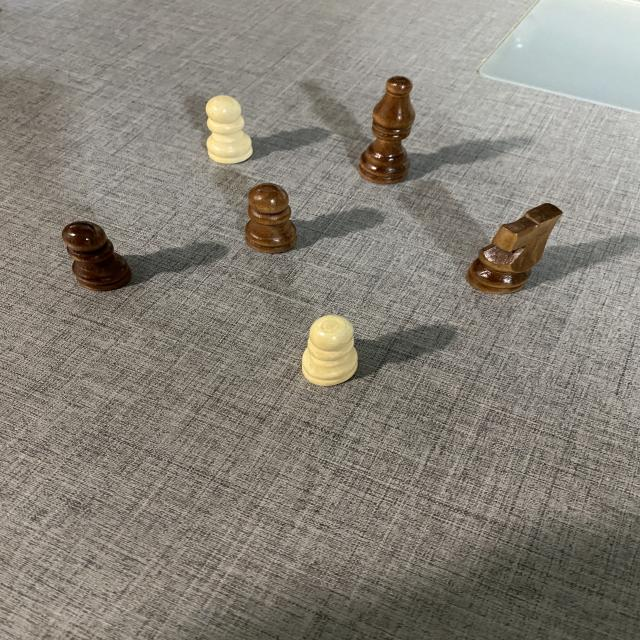Black-Bishop: (358, 75, 416, 185)
Black-Knight: (465, 202, 567, 295)
Black-Pawn: (61, 220, 136, 292), (244, 181, 300, 256)
White-Pawn: (299, 312, 362, 387), (202, 94, 255, 165)
